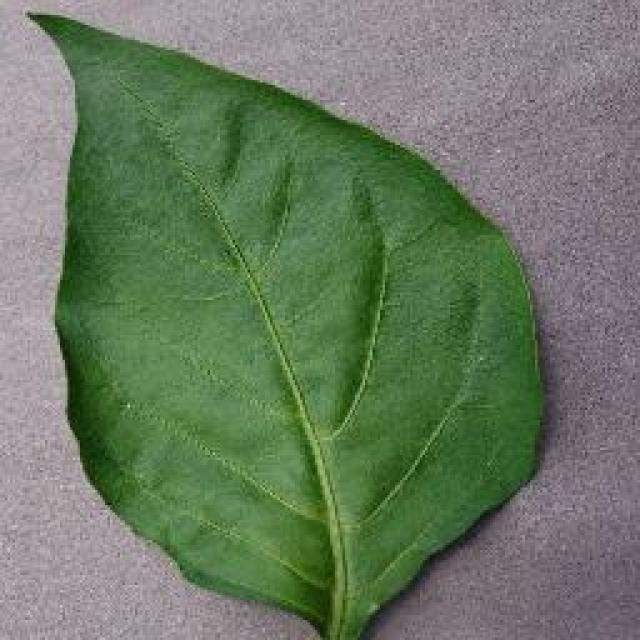Leaf: (88, 53, 526, 493)
